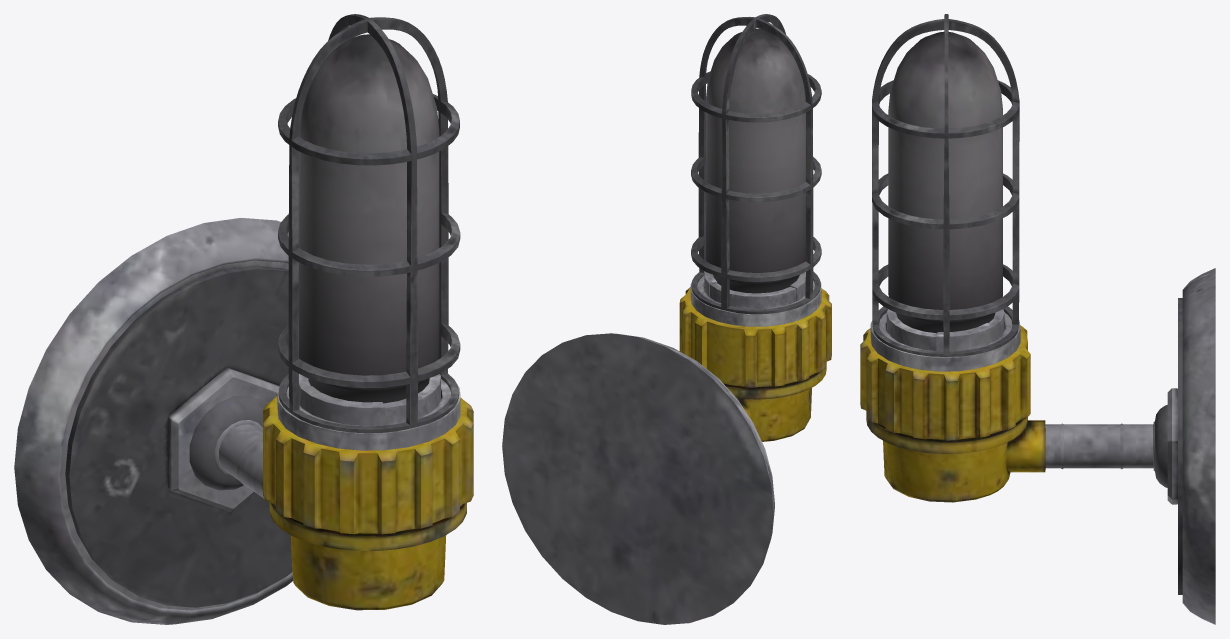
The model's file is industrial_caged_sconce.glb.
3 renders of one model, left to right at view 1: azimuth 30°, elevation 25°; view 2: azimuth 150°, elevation 25°; view 3: azimuth 270°, elevation 25°, orthographic. The views are drawn at different scales.
Visible parts, largest first — view 1: industrial_caged_sconce_b; view 2: industrial_caged_sconce_b; view 3: industrial_caged_sconce_b.
Boxes of the visible parts, x1=… form: industrial_caged_sconce_b: x1=14, y1=14, x2=473, y2=624; industrial_caged_sconce_b: x1=502, y1=14, x2=831, y2=624; industrial_caged_sconce_b: x1=860, y1=14, x2=1215, y2=624.
Size of the model in its own units: 0.2102 by 0.3819 by 0.209.
1 material, 1 textured.
